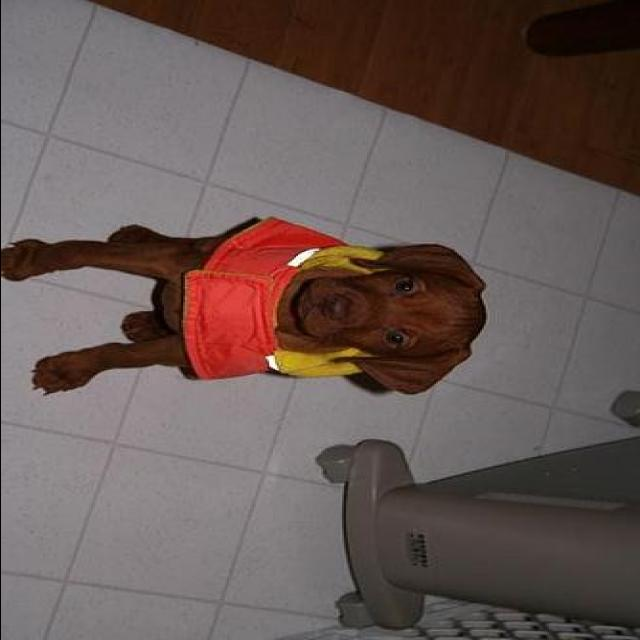vizsla: (2, 220, 494, 400)
